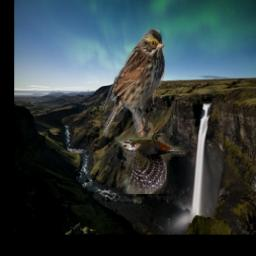Sparrow: (104, 30, 166, 138)
Woodpecker: (115, 133, 187, 194)
